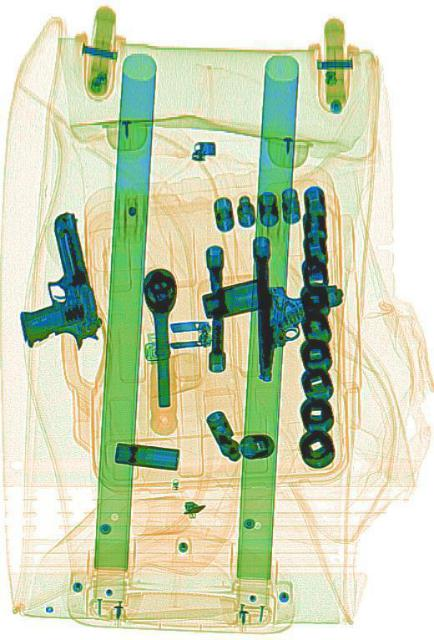Gun: (0, 208, 104, 370), (256, 281, 343, 379)
